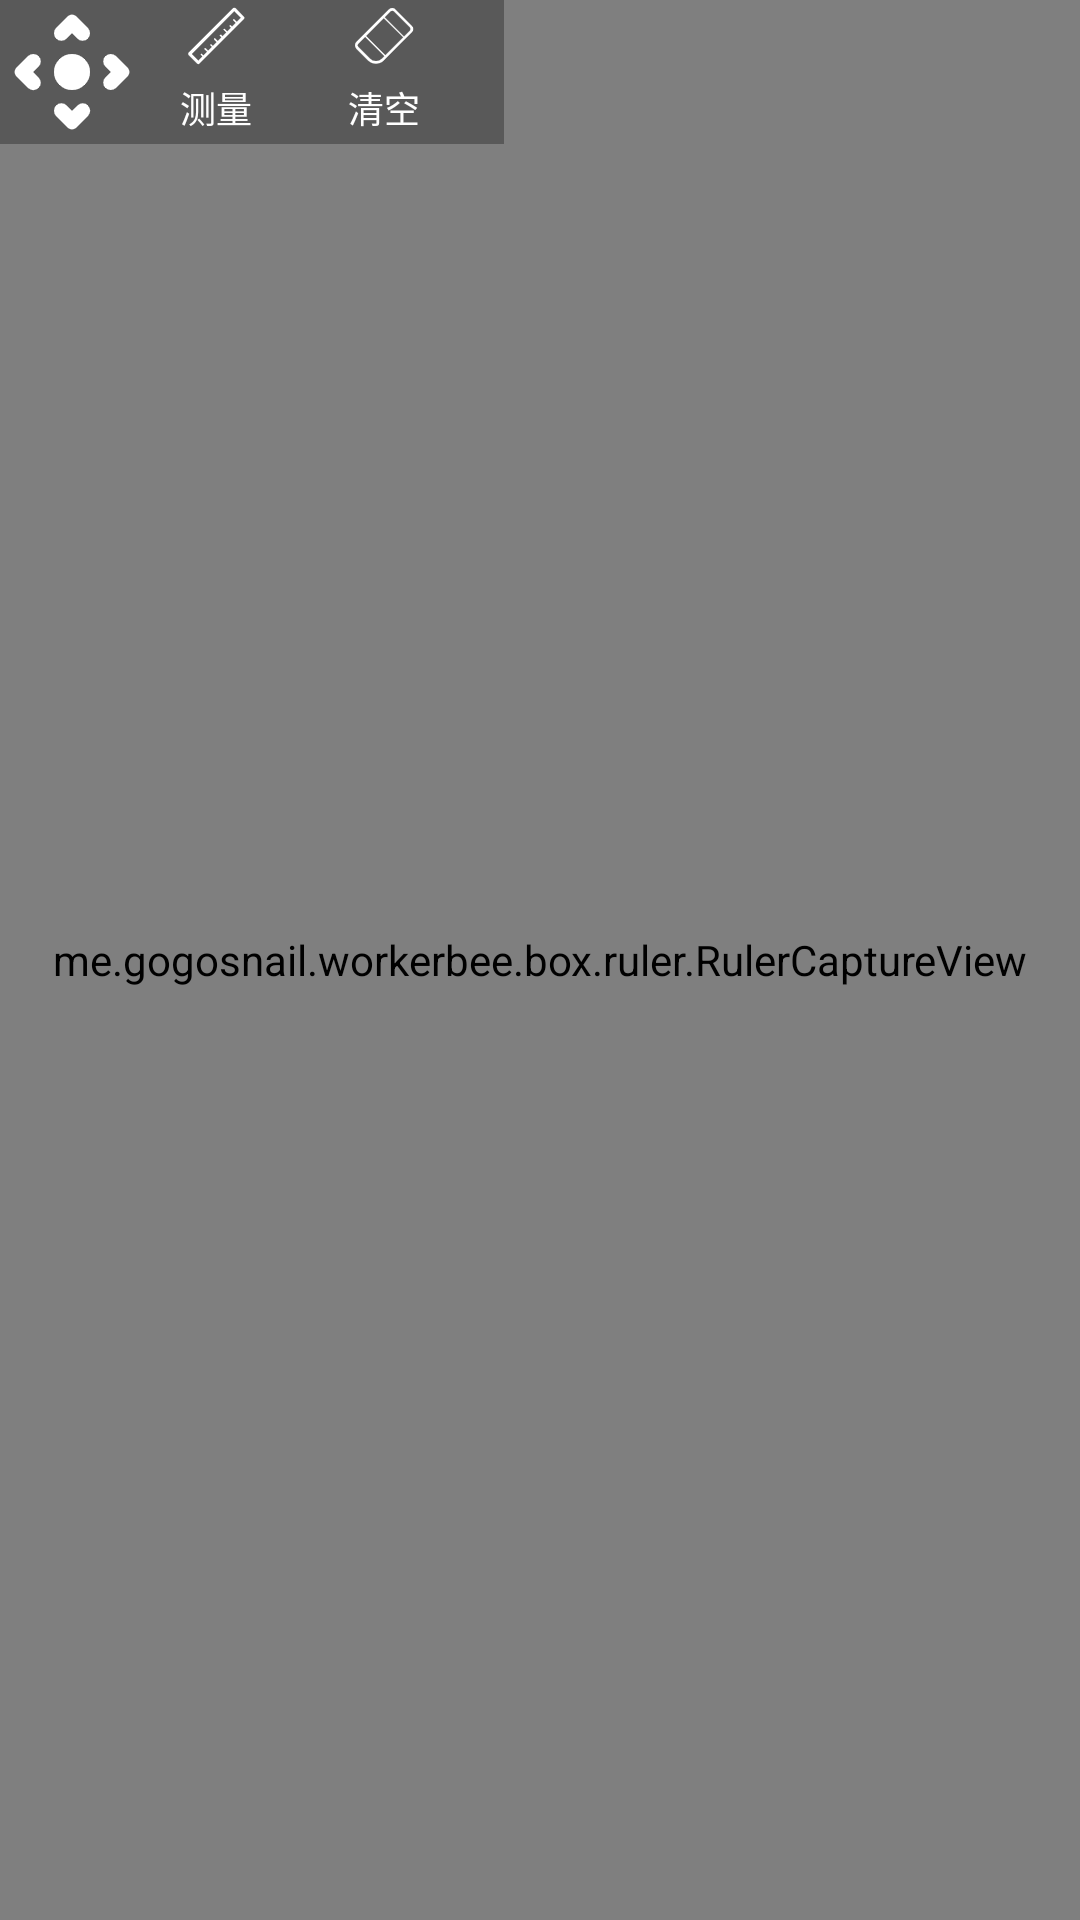

Icons on this 1080x1920 Android screen, each with its box as (x1, y1, x2, y2):
control: (14, 14, 130, 130)
